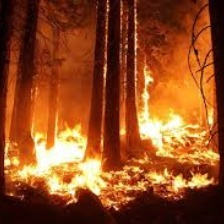incendio: (3, 56, 218, 204)
